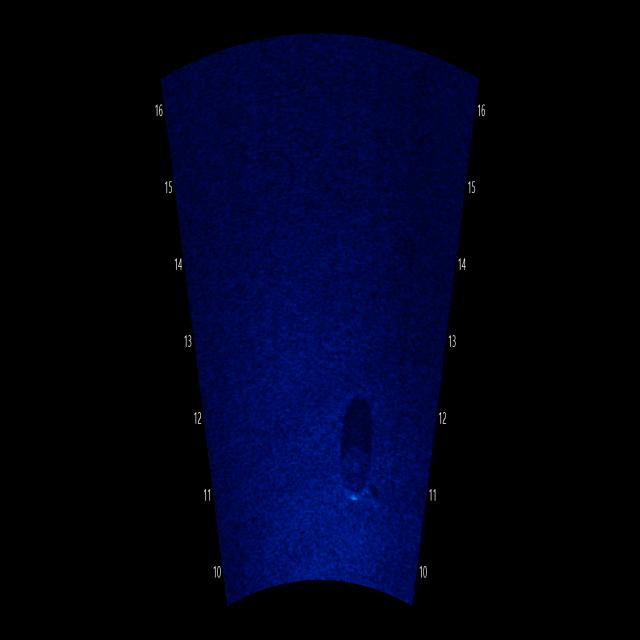circle: (332, 416, 384, 516)
